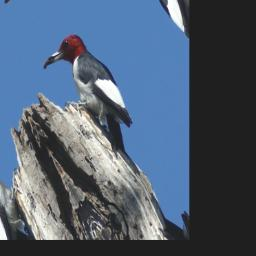Woodpecker: (42, 17, 159, 199)
